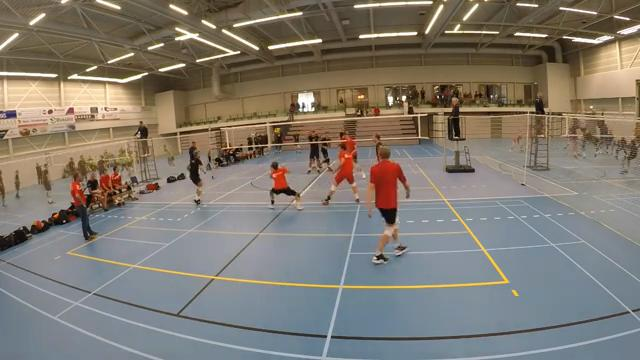Player: (367, 147, 409, 263), (322, 143, 359, 204), (339, 132, 365, 178), (188, 151, 205, 204), (307, 130, 320, 173), (320, 132, 332, 171), (373, 133, 383, 162), (292, 133, 300, 152)
Receive: (265, 159, 305, 213)
ball: (273, 125, 281, 136)
